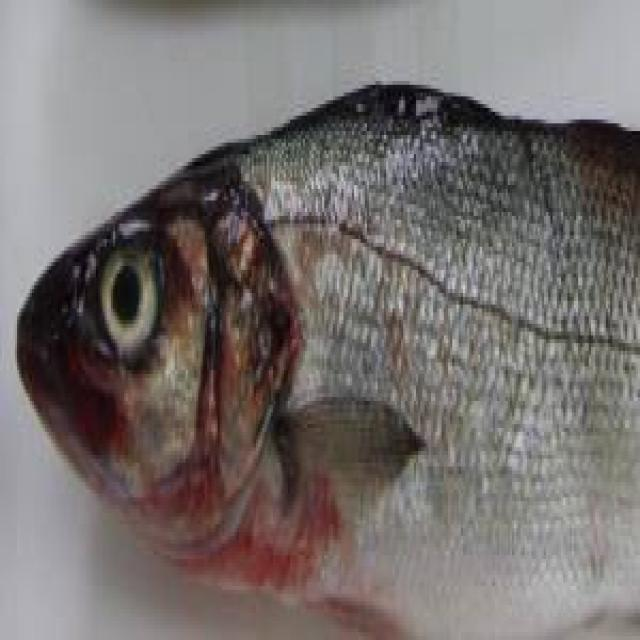EUS Disease: (9, 80, 636, 640), (16, 77, 490, 640)
